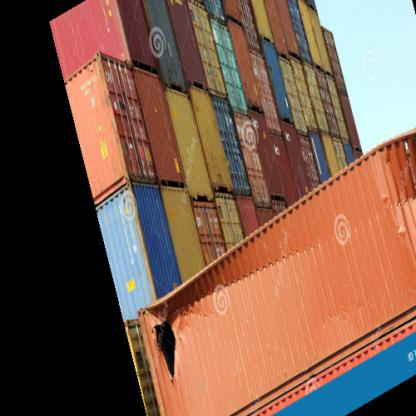Damage: (142, 300, 183, 395)
